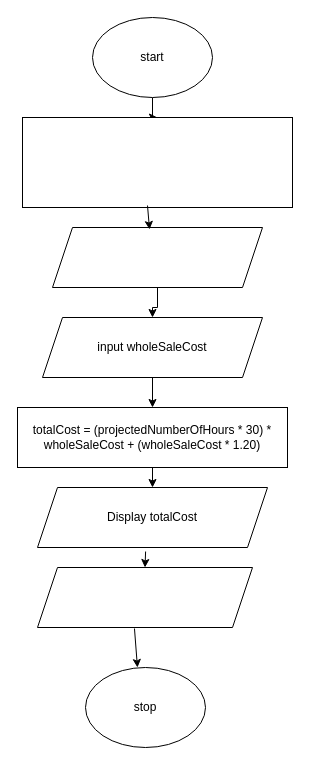
The diagram is 310 pixels wide and 765 high, and some of its shapes have lost their labels. Each missing label, with the box of its shape:
Declare projectedNumberOfHours wholeSaleCost totalCost: (22, 116, 292, 208)
Display "End Of Program": (36, 566, 252, 628)
input projectedNumberOfHours: (52, 226, 262, 288)
